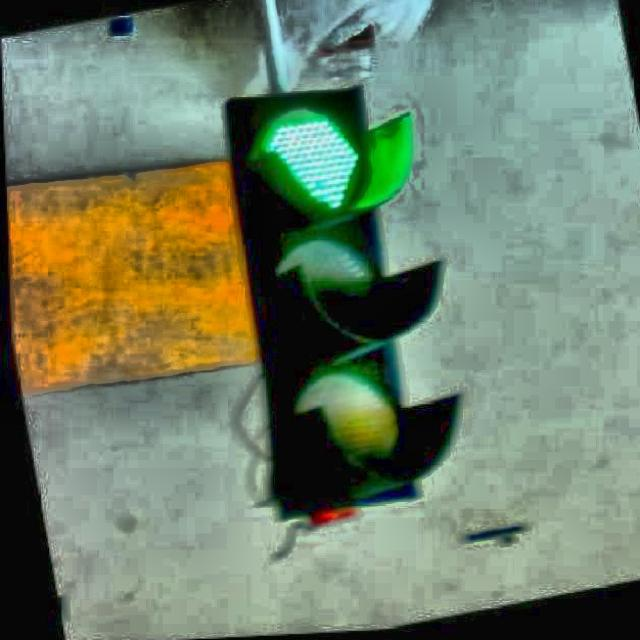green: (234, 95, 431, 494)
